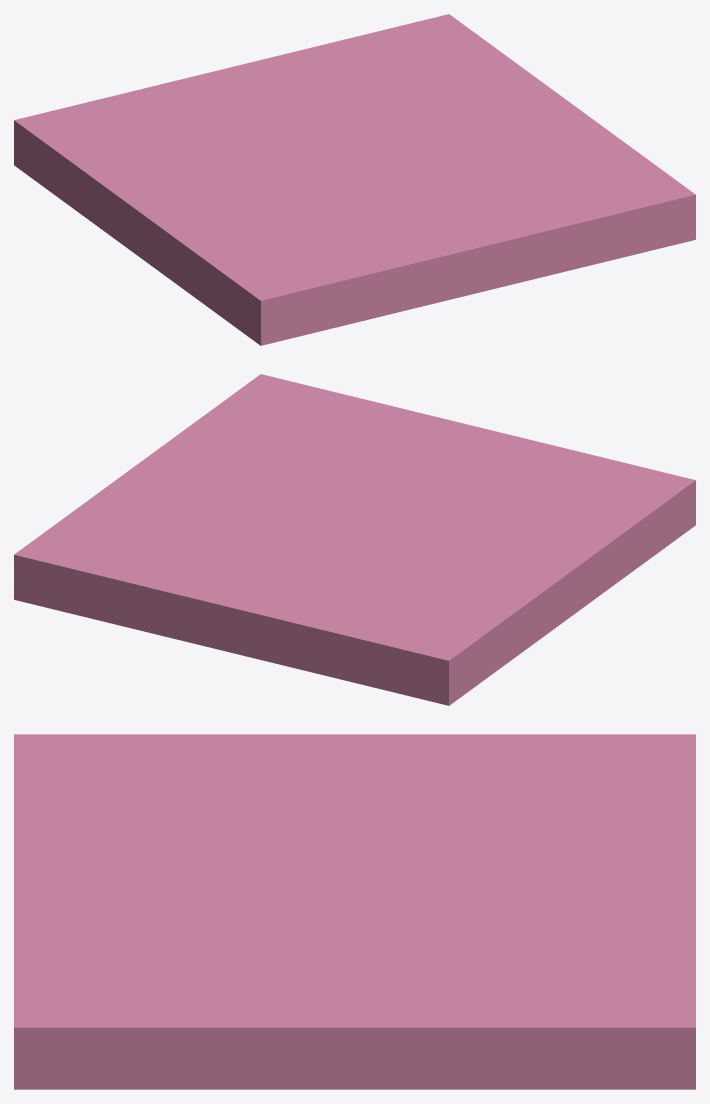
The model's file is curb_middle_4m.dae.
3 views of the same model, one above another, from view 1: azimuth 30°, elevation 25°; view 2: azimuth 150°, elevation 25°; view 3: azimuth 270°, elevation 25° (orthographic). The views are drawn at different scales.
Visible parts, largest first — view 1: Untitled; view 2: Untitled; view 3: Untitled.
Boxes of the visible parts, left/top/right/bottom form: Untitled: left=14, top=14, right=695, bottom=345; Untitled: left=14, top=374, right=695, bottom=705; Untitled: left=14, top=734, right=695, bottom=1089.
Bounding box in the file's own units: 4.12 × 4.05 × 0.4075.
